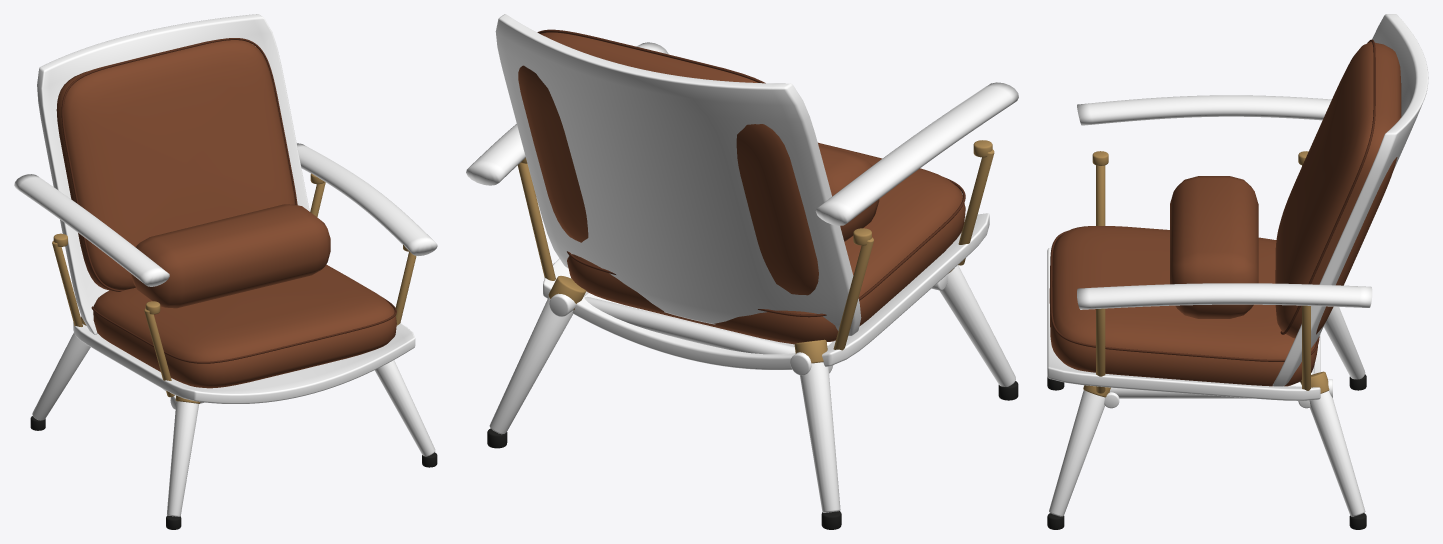
The model's file is asset.glb.
The picture shows the model from 3 angles, left to right: view 1: azimuth 30°, elevation 25°; view 2: azimuth 150°, elevation 25°; view 3: azimuth 270°, elevation 25°; orthographic projection. The views are drawn at different scales.
Visible parts, largest first — view 1: back_cushion, seat_cushion, lumbar_cushion, timber_back, timber_seat, arm_left, arm_right, leg_front_left, leg_front_right, leg_rear_left, back_cushion_piping, seat_cushion_piping (+3 smaller); view 2: timber_back, back_cushion, seat_cushion, timber_seat, arm_left, leg_rear_left, cross_brace_rear, leg_rear_right, leg_front_left, arm_right, lumbar_cushion, arm_support_rear_right (+4 smaller); view 3: seat_cushion, back_cushion, lumbar_cushion, timber_back, arm_right, arm_left, timber_seat, leg_front_right, leg_rear_right, leg_rear_left, seat_cushion_piping, underframe_right (+4 smaller).
Part boxes in pixels (x1,y1,x2,y2): back_cushion: [56, 39, 295, 291]; seat_cushion: [93, 264, 396, 388]; lumbar_cushion: [131, 204, 330, 308]; timber_back: [37, 14, 309, 334]; timber_seat: [73, 322, 415, 403]; arm_left: [14, 174, 169, 286]; arm_right: [297, 143, 437, 255]; leg_front_left: [167, 401, 198, 516]; leg_front_right: [374, 360, 435, 456]; leg_rear_left: [32, 332, 90, 420]; back_cushion_piping: [61, 38, 297, 291]; seat_cushion_piping: [91, 297, 396, 363]; timber_back: [495, 14, 861, 335]; back_cushion: [518, 32, 818, 295]; seat_cushion: [567, 142, 965, 344]; timber_seat: [543, 213, 989, 369]; arm_left: [815, 82, 1018, 225]; leg_rear_left: [800, 362, 840, 512]; cross_brace_rear: [584, 296, 833, 373]; leg_rear_right: [489, 297, 573, 434]; leg_front_left: [939, 265, 1015, 386]; arm_right: [466, 42, 668, 185]; lumbar_cushion: [818, 145, 879, 241]; arm_support_rear_right: [517, 162, 555, 280]; seat_cushion: [1049, 226, 1317, 386]; back_cushion: [1275, 42, 1401, 338]; lumbar_cushion: [1170, 176, 1258, 318]; timber_back: [1272, 14, 1428, 386]; arm_right: [1077, 283, 1372, 309]; arm_left: [1077, 95, 1331, 125]; timber_seat: [1047, 247, 1320, 400]; leg_front_right: [1049, 390, 1104, 516]; leg_rear_right: [1309, 391, 1365, 516]; leg_rear_left: [1324, 306, 1365, 379]; seat_cushion_piping: [1050, 230, 1319, 361]; underframe_right: [1109, 379, 1332, 398].
Size of the model in its own units: 1.09 by 1.19 by 1.07.
